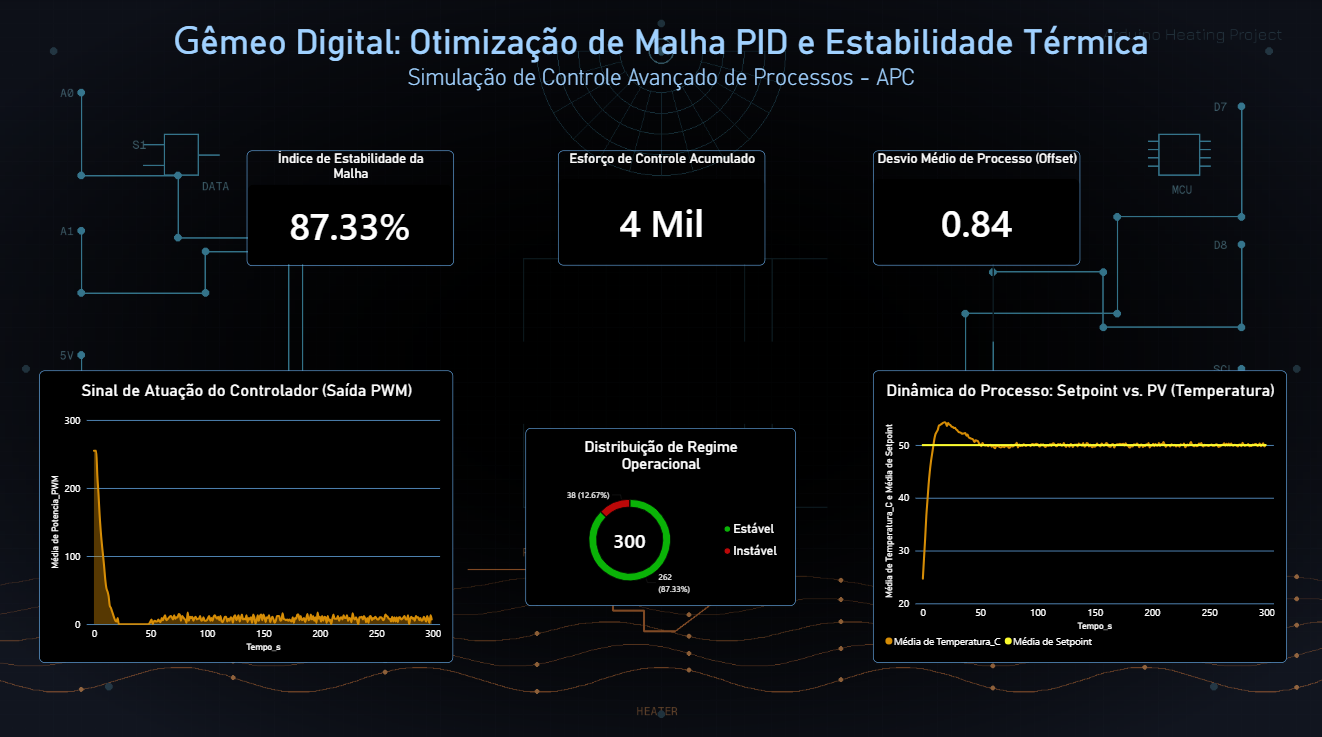

What the dashboard file says about the page in this screenshot:
{"tool":"powerbi","page":{"name":"Página 1","canvas":[1920,1080],"ordinal":0},"visuals":[{"type":"lineChart","title":"Dinâmica do Processo: Setpoint vs. PV (Temperatura)","fields":{"Category":["dataset_powerbi.Tempo_s"],"Y":["Avg(dataset_powerbi.Temperatura_C)","Avg(dataset_powerbi.Setpoint)"]},"box":[1266.8,539.3,599,423.5],"z":0},{"type":"areaChart","title":"Sinal de Atuação do Controlador (Saída PWM)","fields":{"Category":["dataset_powerbi.Tempo_s"],"Y":["Avg(dataset_powerbi.Potencia_PWM)"]},"box":[59.7,539.3,599,423.5],"z":1},{"type":"donutChart","title":"Distribuição de Regime Operacional","fields":{"Category":["dataset_powerbi.Status_Estabilidade"],"Y":["dataset_powerbi.Total de Ciclos"]},"box":[763.7,622.5,391.1,257.3],"z":2},{"type":"cardVisual","title":"Desvio Médio de Processo (Offset)","fields":{"Data":["dataset_powerbi.Erro Medio Processo"]},"box":[1265.9,220.2,300,166.5],"z":3},{"type":"cardVisual","title":"Índice de Estabilidade da Malha","fields":{"Data":["dataset_powerbi.% Operacao Estavel"]},"box":[360.1,220.8,299.7,167.4],"z":4},{"type":"textbox","box":[0,20.6,1920.4,193.5],"z":5},{"type":"cardVisual","title":"Esforço de Controle Acumulado","fields":{"Data":["Sum(dataset_powerbi.Potencia_PWM)"]},"box":[810.7,220.8,300,166.5],"z":6}]}

Visuals, with their boxes in screenshot pixels (x1, y1, x2, y2), scaled from the page's 1920x1080 canvas onto the 1322x737 screenshot:
"Dinâmica do Processo: Setpoint vs. PV (Temperatura)" lineChart: bbox=[872, 368, 1285, 657]
"Sinal de Atuação do Controlador (Saída PWM)" areaChart: bbox=[41, 368, 454, 657]
"Distribuição de Regime Operacional" donutChart: bbox=[526, 425, 795, 600]
"Desvio Médio de Processo (Offset)" cardVisual: bbox=[872, 150, 1078, 264]
"Índice de Estabilidade da Malha" cardVisual: bbox=[248, 151, 454, 265]
textbox: bbox=[0, 14, 1321, 146]
"Esforço de Controle Acumulado" cardVisual: bbox=[558, 151, 765, 264]
